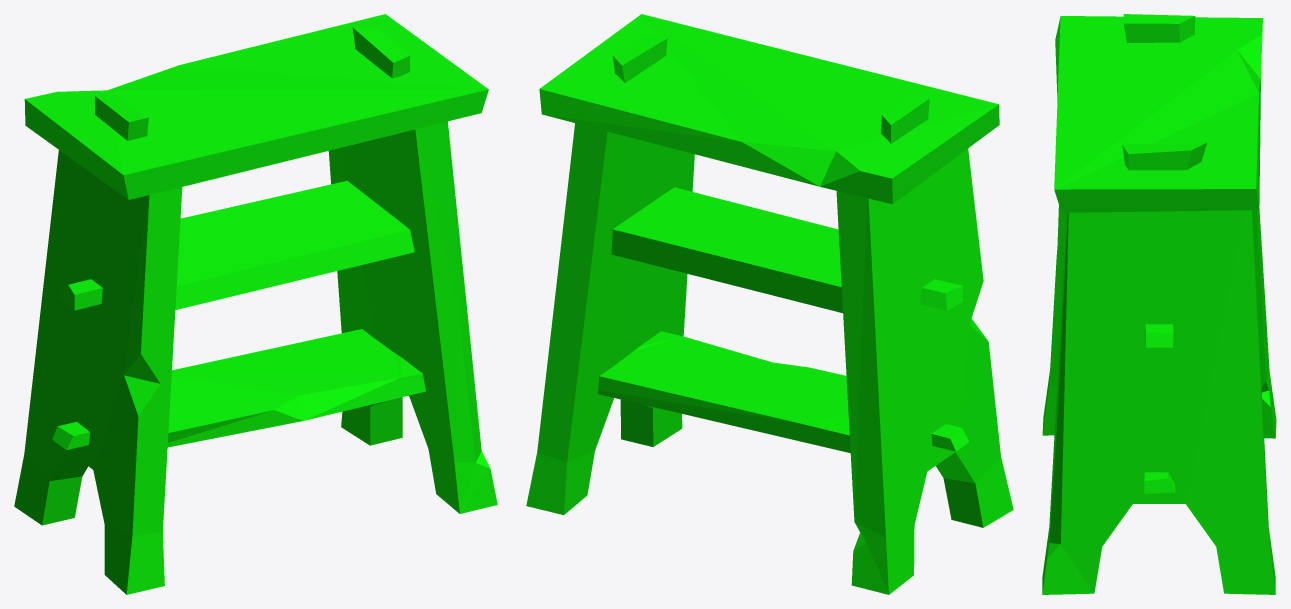
The model's file is SM_Shelf_Simple_A_Fantasy.fbx.
The picture shows the model from 3 angles, left to right: view 1: azimuth 30°, elevation 25°; view 2: azimuth 150°, elevation 25°; view 3: azimuth 270°, elevation 25°; orthographic projection.
Parts seen in each view (by area): view 1: shelf-simple-a-fantasy; view 2: shelf-simple-a-fantasy; view 3: shelf-simple-a-fantasy.
Part boxes in pixels (x1,y1,x2,y2): shelf-simple-a-fantasy: [14, 14, 497, 594]; shelf-simple-a-fantasy: [526, 14, 1013, 594]; shelf-simple-a-fantasy: [1042, 14, 1276, 594].
Bounding box in the file's own units: 0.9329 × 1 × 0.5002.
